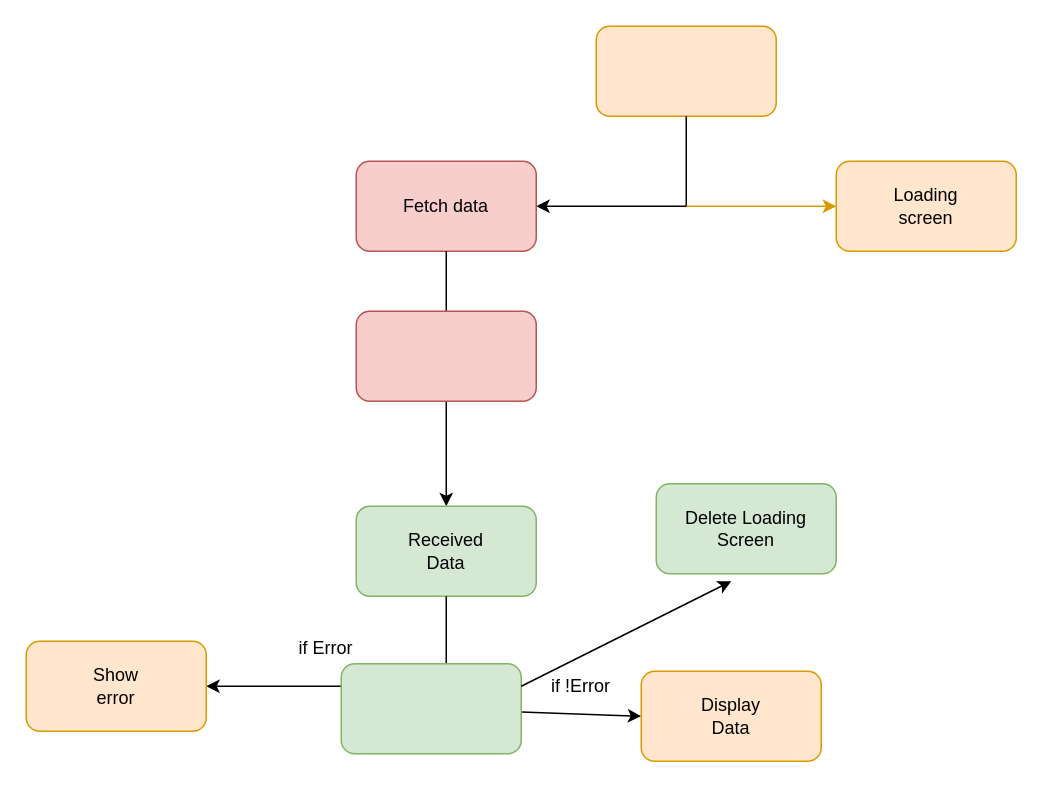
This 1043x788 diagram has some shape labels left out. Each missing label, with the centre of its shape:
"Check Error" belongs at [430,708].
"Landing Page" belongs at [685,70].
"Send data to Controller" belongs at [445,355].
